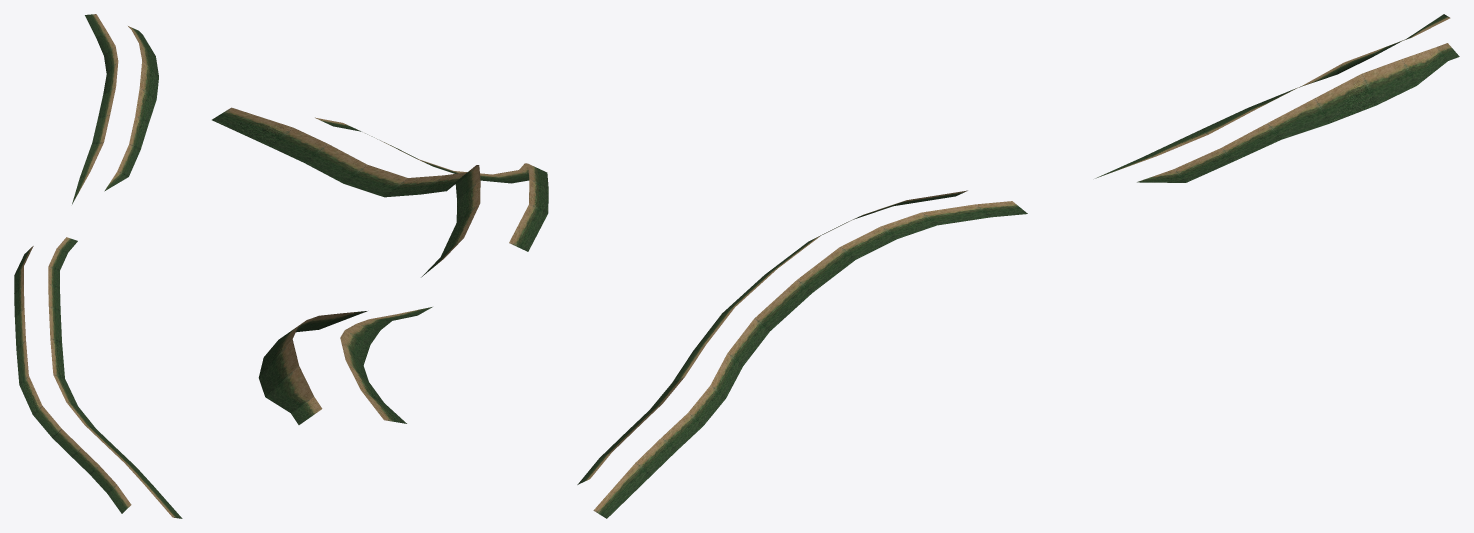
The model's file is track_mushroom_road_side2.fbx.
3 views of the same model, side by side, from view 1: azimuth 30°, elevation 25°; view 2: azimuth 210°, elevation 25°; view 3: azimuth 330°, elevation 25° (orthographic). The views are drawn at different scales.
Visible parts, largest first — view 1: track_mushroom_road_side2; view 2: track_mushroom_road_side2; view 3: track_mushroom_road_side2.
Boxes of the visible parts, <box> form: track_mushroom_road_side2: <box>14,14,182,518</box>; track_mushroom_road_side2: <box>212,107,548,424</box>; track_mushroom_road_side2: <box>577,14,1459,518</box>.
Size of the model in its own units: 188 by 94.16 by 347.
